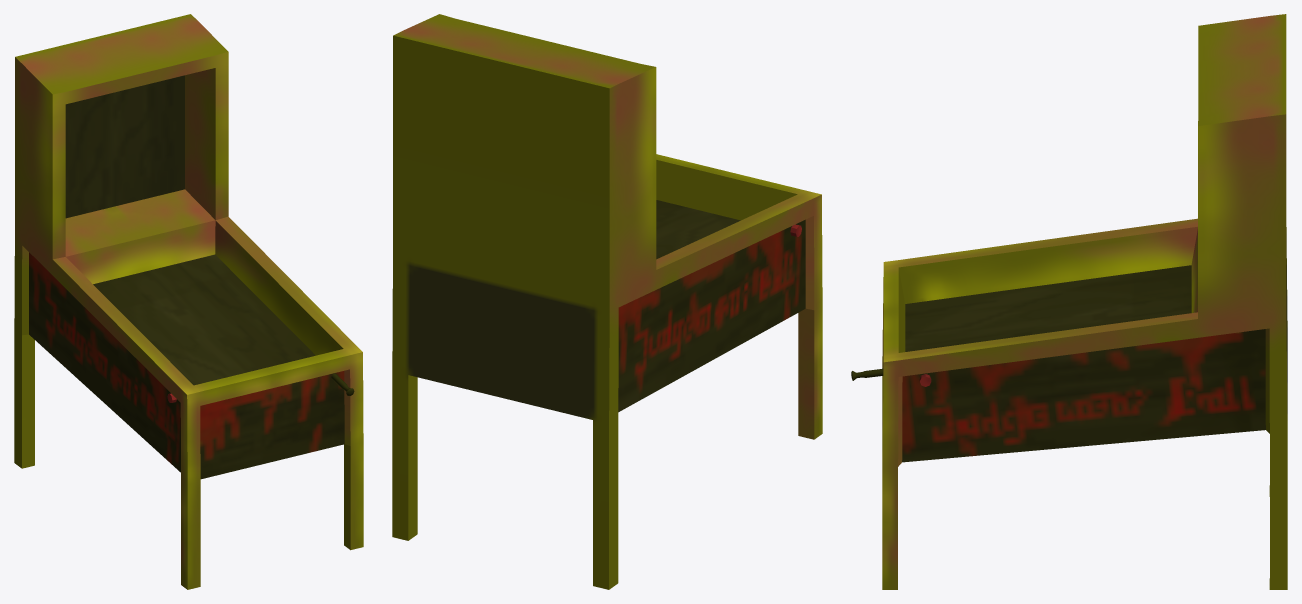
The model's file is Flipper.obj.
The picture shows the model from 3 angles, left to right: view 1: azimuth 30°, elevation 25°; view 2: azimuth 150°, elevation 25°; view 3: azimuth 270°, elevation 25°; orthographic projection. The views are drawn at different scales.
Visible parts, largest first — view 1: Cube; view 2: Cube; view 3: Cube.
Part boxes in pixels (<box>): Cube: <box>14,14,363,589</box>; Cube: <box>392,14,822,589</box>; Cube: <box>882,14,1287,589</box>.
Size of the model in its own units: 0.8387 by 1.85 by 1.54.
